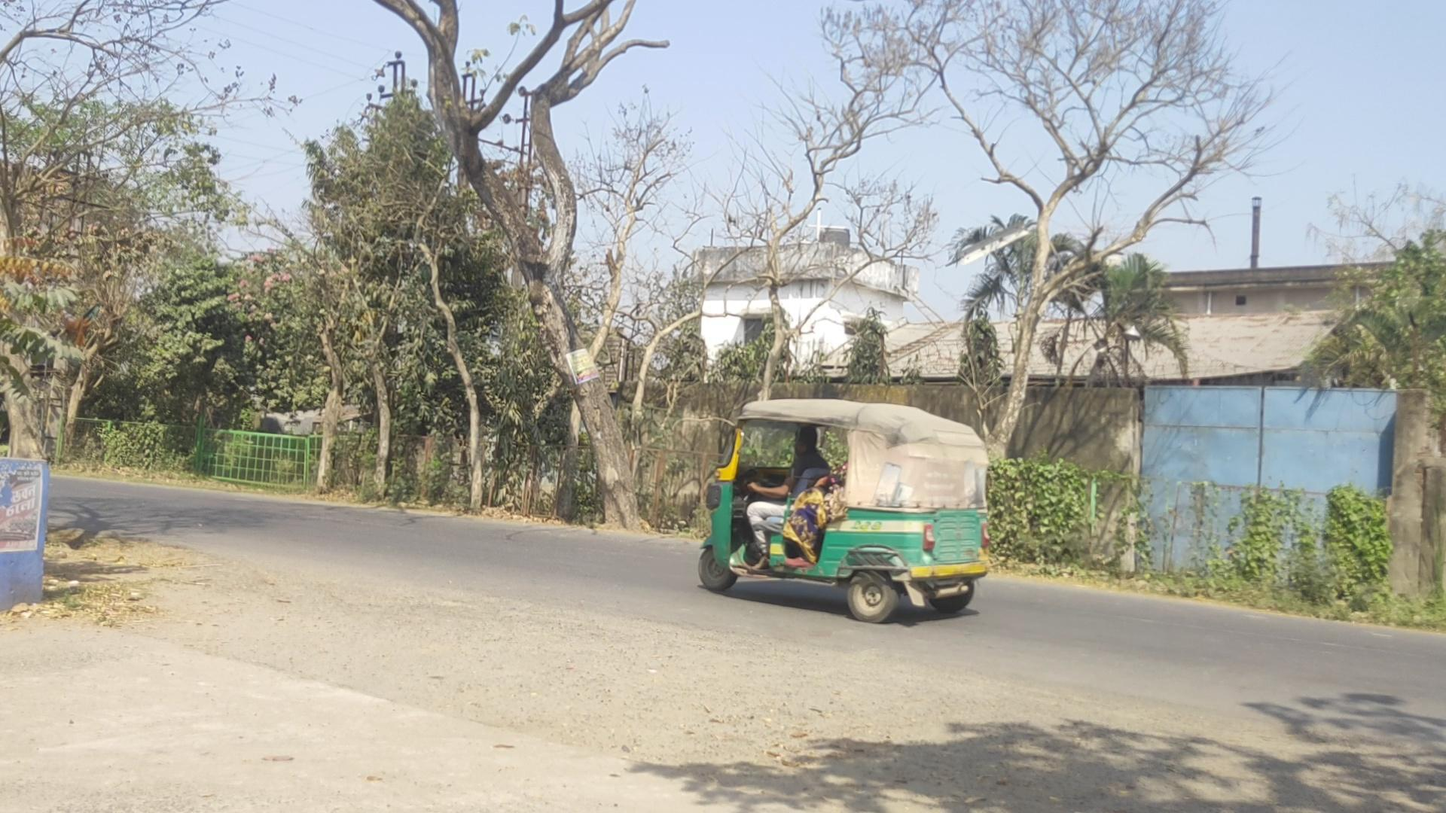Auto: (697, 397, 990, 624)
